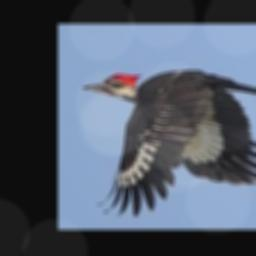Woodpecker: (83, 68, 256, 216)
